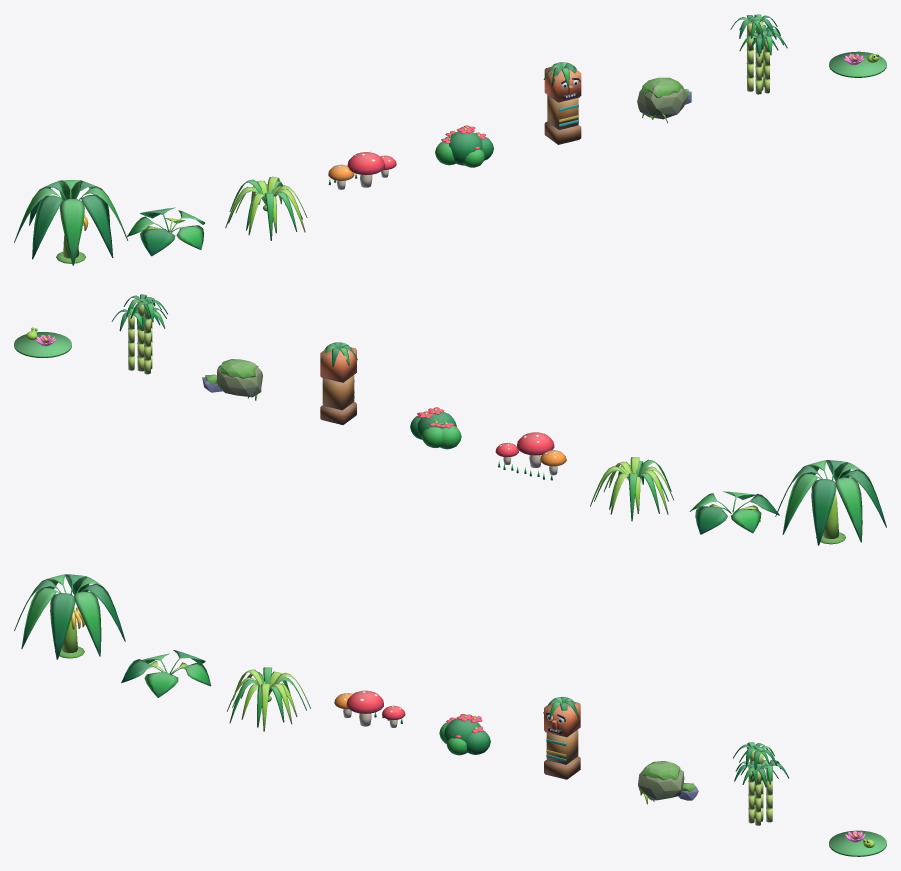
The model's file is JungleProps.fbx.
3 views of the same model, one above another, from view 1: azimuth 30°, elevation 25°; view 2: azimuth 150°, elevation 25°; view 3: azimuth 330°, elevation 25° (orthographic).
Visible parts, largest first — view 1: BananaPlant, TikiTotem, Bamboo, Fern, GiantLeafPlant, HibiscusBush, MossyBoulder, Toadstools, LilyPad; view 2: BananaPlant, TikiTotem, Bamboo, Fern, GiantLeafPlant, MossyBoulder, Toadstools, HibiscusBush, LilyPad; view 3: BananaPlant, TikiTotem, Bamboo, Fern, GiantLeafPlant, MossyBoulder, HibiscusBush, Toadstools, LilyPad.
Part boxes in pixels (box(x1,y1,x2,y2)): BananaPlant: box(14, 180, 127, 265); TikiTotem: box(543, 62, 581, 144); Bamboo: box(730, 14, 787, 94); Fern: box(225, 176, 307, 240); GiantLeafPlant: box(127, 207, 204, 256); HibiscusBush: box(435, 125, 493, 167); MossyBoulder: box(637, 77, 691, 123); Toadstools: box(328, 151, 396, 189); LilyPad: box(829, 51, 886, 77); BananaPlant: box(775, 460, 886, 545); TikiTotem: box(320, 342, 357, 424); Bamboo: box(111, 294, 167, 374); Fern: box(590, 457, 673, 521); GiantLeafPlant: box(689, 491, 779, 534); MossyBoulder: box(202, 359, 262, 400); Toadstools: box(495, 432, 566, 480); HibiscusBush: box(410, 407, 461, 449); LilyPad: box(14, 327, 71, 357); BananaPlant: box(14, 574, 125, 659); TikiTotem: box(543, 697, 580, 779); Bamboo: box(733, 742, 788, 825); Fern: box(227, 667, 310, 731); GiantLeafPlant: box(121, 650, 211, 697); MossyBoulder: box(638, 761, 698, 804); HibiscusBush: box(439, 714, 490, 755); Toadstools: box(334, 690, 405, 727); LilyPad: box(829, 830, 886, 856).
Size of the model in its own units: 157 by 14.76 by 17.33.
Materials: 1 (1 with a texture image).
